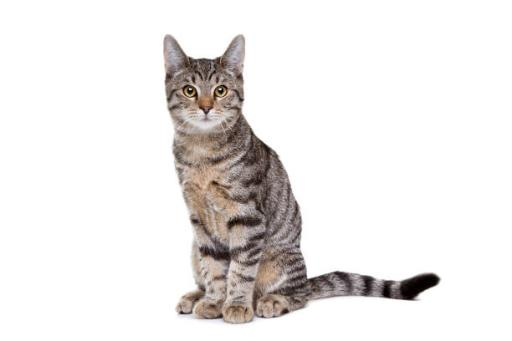cat_sitting: (166, 35, 438, 323)
